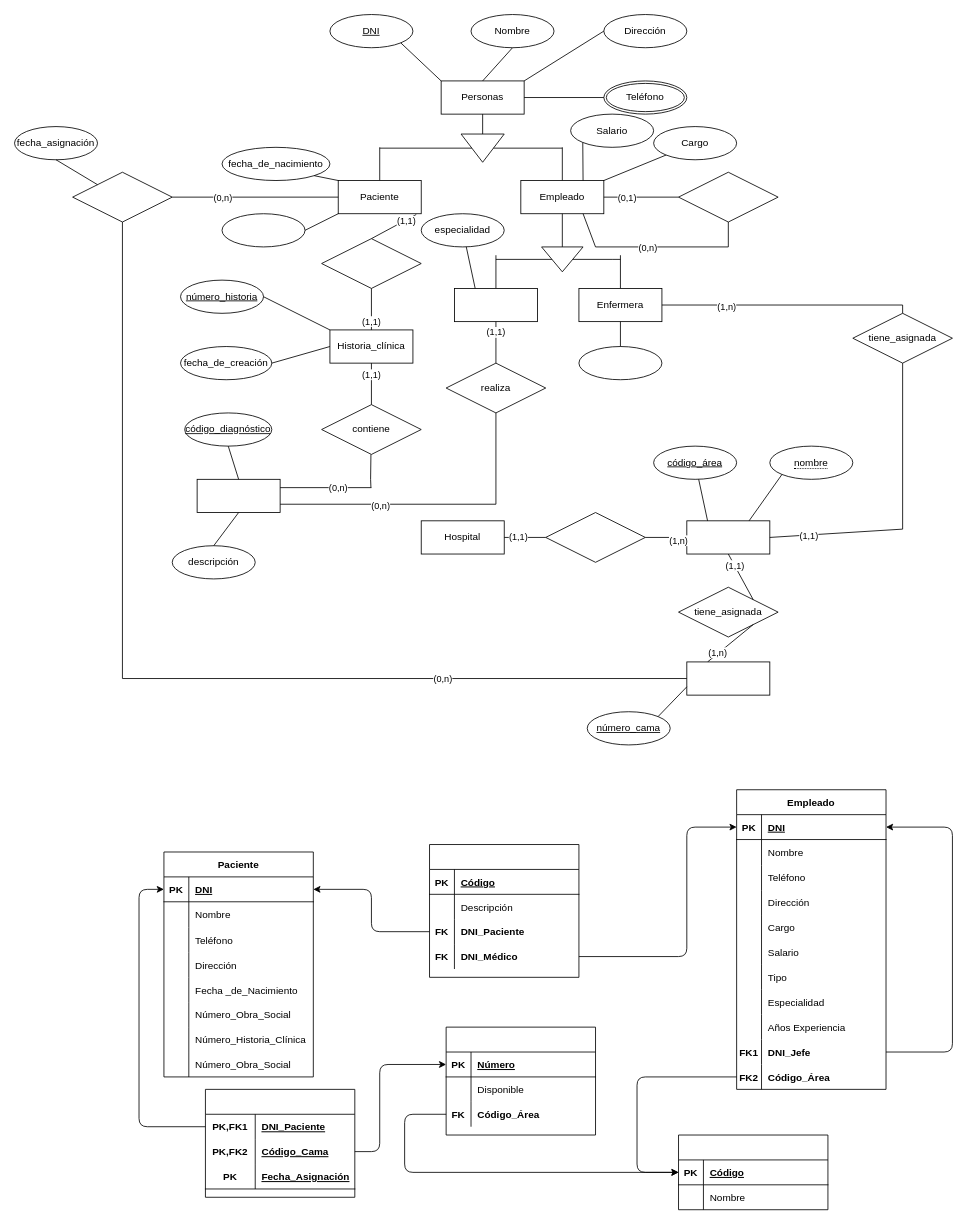
The diagram is 974 pixels wide and 1224 high, and some of its shapes have lost their labels. The shapes that lost their labels are listed below. From the top down, each one's box as (x1, y1, x2, y2) in pixels, then its label:
(72, 171, 172, 222): se_asigna
(678, 171, 778, 222): es_jefe_de
(221, 213, 305, 247): obra_social
(321, 238, 421, 288): está_asociado
(454, 288, 537, 322): Médico
(578, 346, 662, 380): años_experiencia
(196, 478, 280, 513): Diagnósticos
(545, 512, 645, 562): se_divide_en
(686, 520, 770, 554): Áreas
(686, 661, 770, 695): Camas
(429, 844, 579, 977): Diagnóstico
(445, 1026, 596, 1135): Cama
(205, 1089, 355, 1197): Paciente_Cama
(678, 1134, 828, 1210): Área
